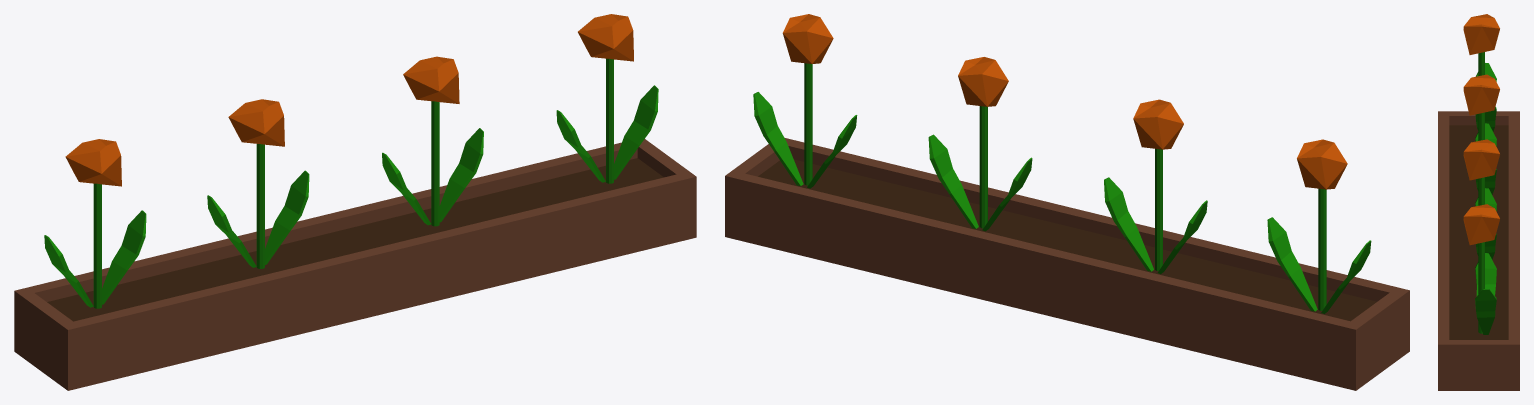
File: WindowAcc_Flowers.fbx
3 views of the same model, side by side, from view 1: azimuth 30°, elevation 25°; view 2: azimuth 150°, elevation 25°; view 3: azimuth 270°, elevation 25° (orthographic). The views are drawn at different scales.
Visible parts, largest first — view 1: WindowAcc_Flowers; view 2: WindowAcc_Flowers; view 3: WindowAcc_Flowers.
Boxes of the visible parts, bbox=[...] form: WindowAcc_Flowers: bbox=[14, 14, 696, 390]; WindowAcc_Flowers: bbox=[725, 14, 1409, 390]; WindowAcc_Flowers: bbox=[1438, 14, 1519, 390].
Size of the model in its own units: 54.01 by 17.31 by 8.
